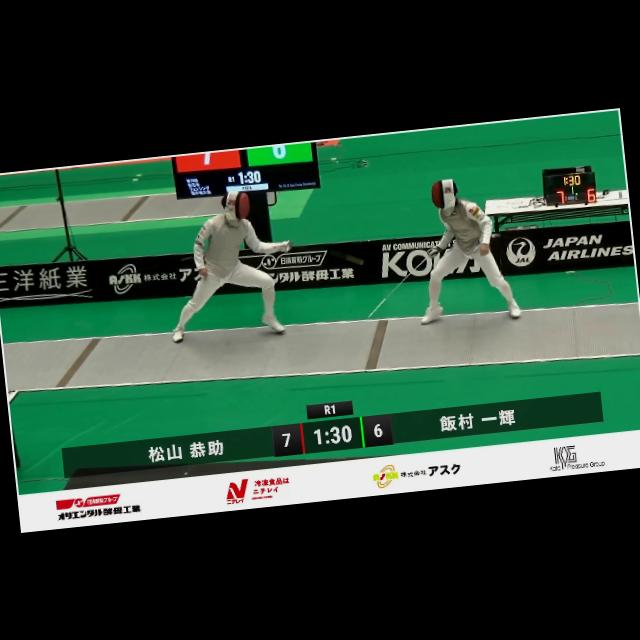blade: (276, 229, 370, 278)
